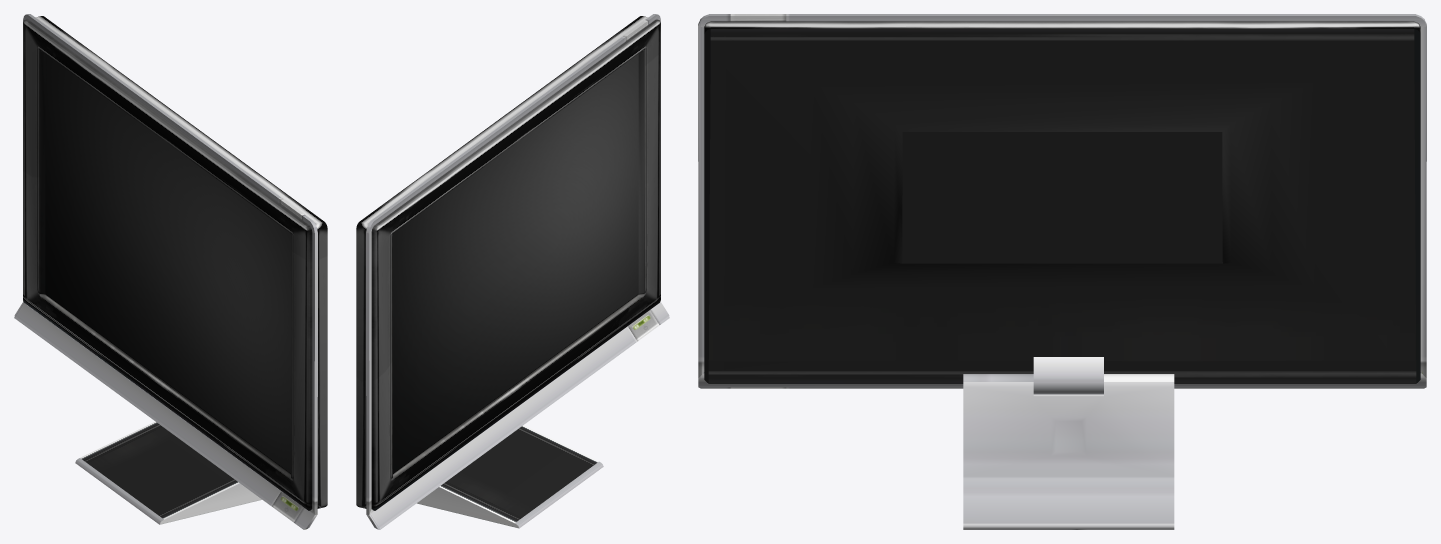
The model's file is monitor.FBX.
The picture shows the model from 3 angles, left to right: view 1: azimuth 30°, elevation 25°; view 2: azimuth 150°, elevation 25°; view 3: azimuth 270°, elevation 25°; orthographic projection. The views are drawn at different scales.
Parts seen in each view (by area): view 1: computer_monitor; view 2: computer_monitor; view 3: computer_monitor.
Boxes of the visible parts, x1=… form: computer_monitor: x1=14, y1=14, x2=327, y2=529; computer_monitor: x1=356, y1=14, x2=669, y2=529; computer_monitor: x1=698, y1=14, x2=1426, y2=529.
Size of the model in its own units: 0.2459 by 0.5741 by 0.8305.
